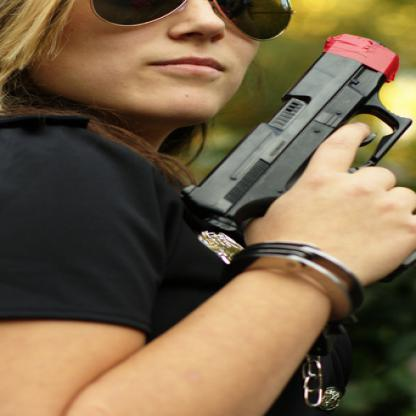gun: (178, 31, 414, 285)
